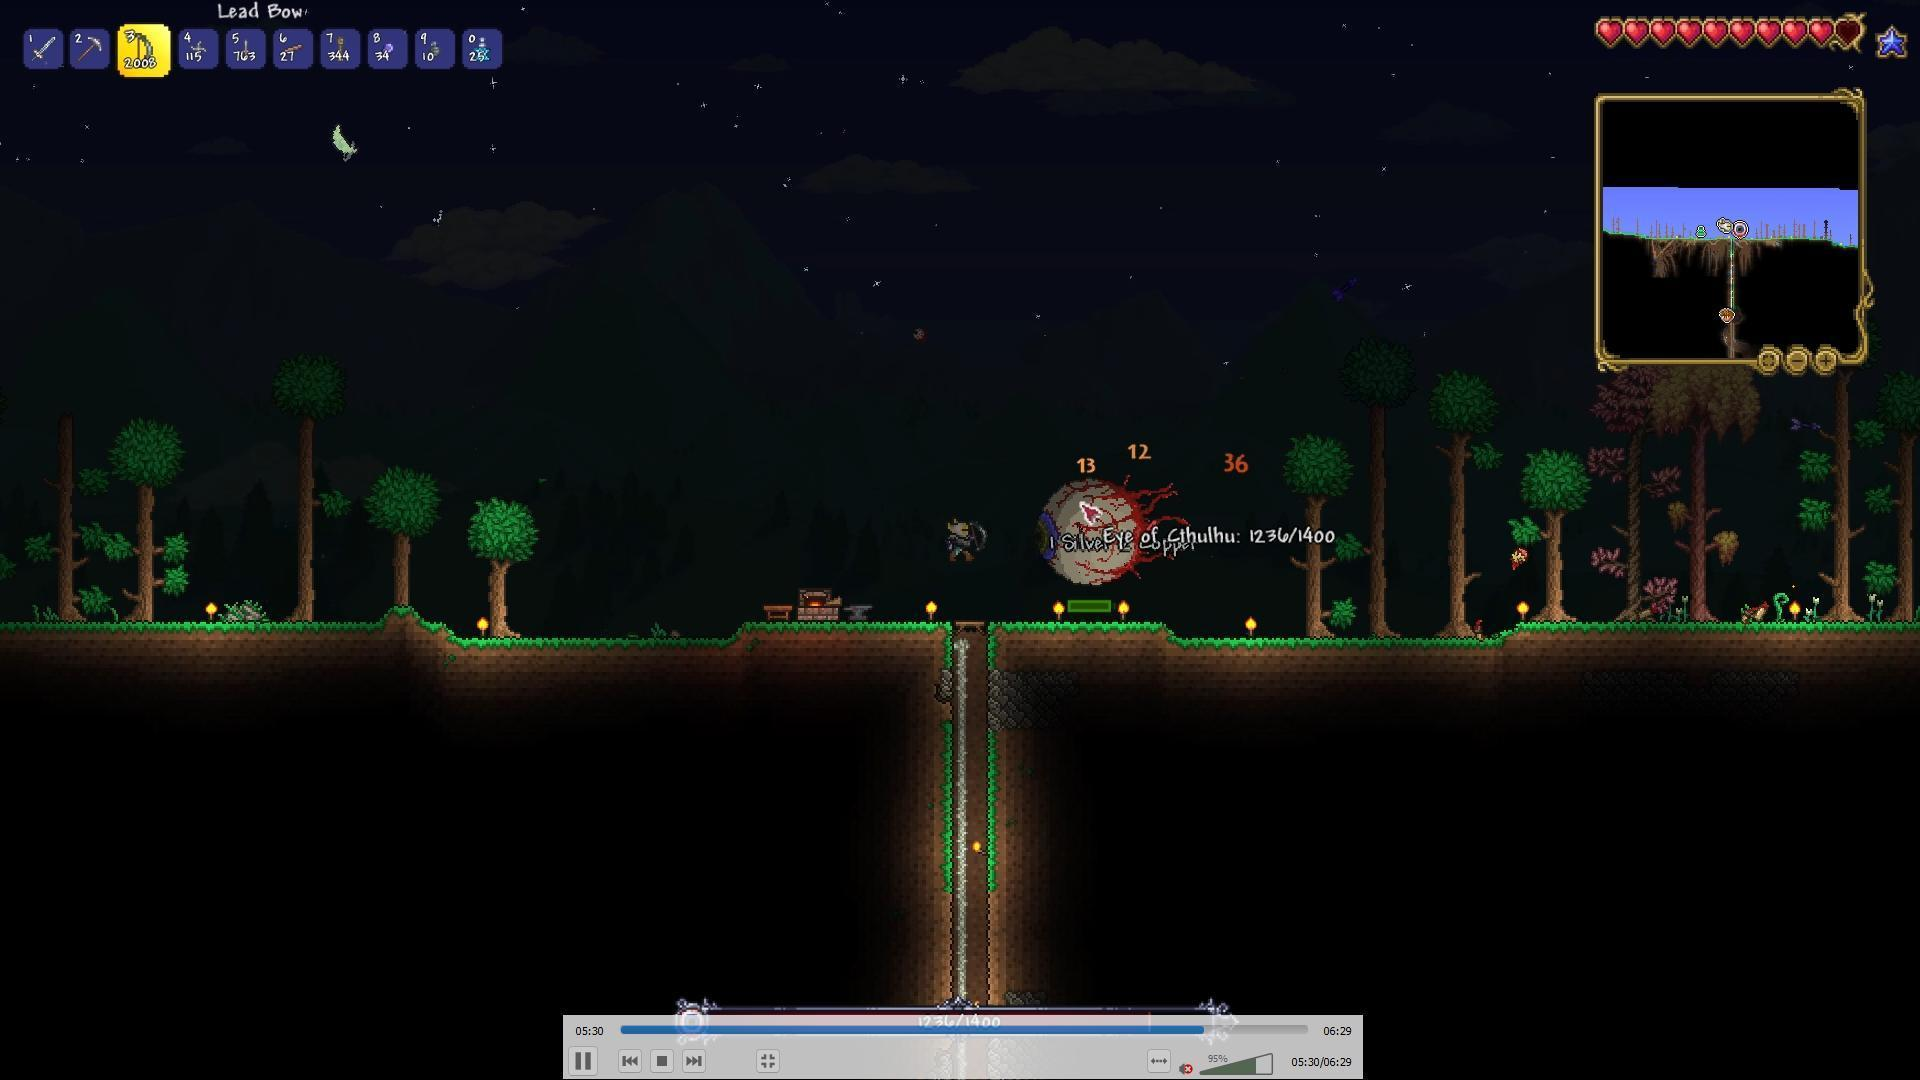eyeC: (1033, 469, 1192, 588)
